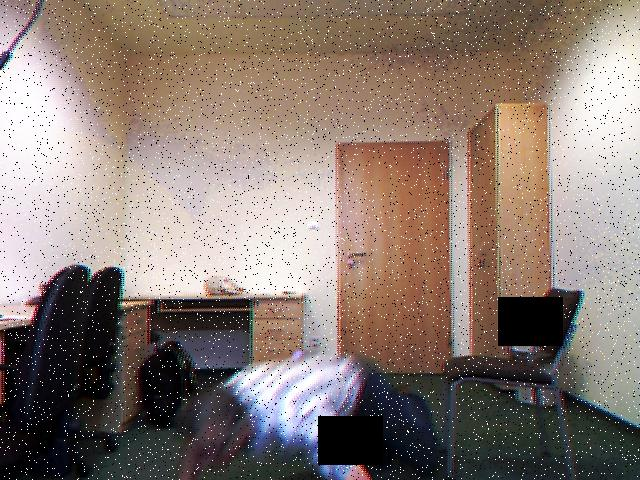fall: (168, 342, 450, 480)
